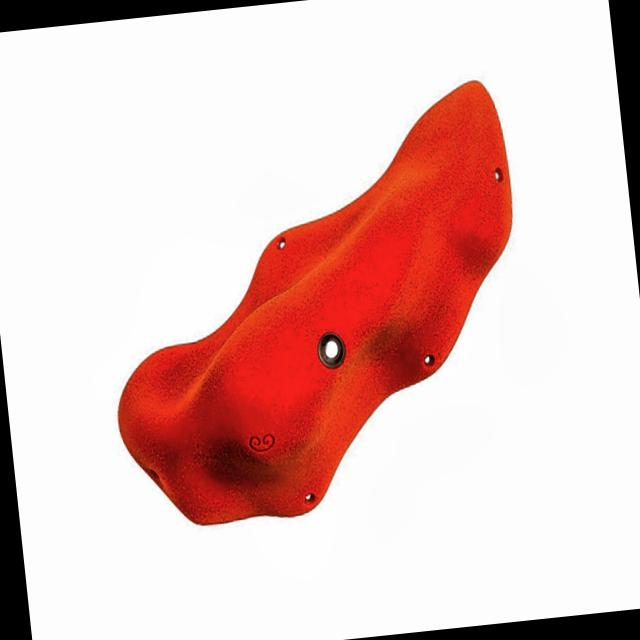Hold: (85, 58, 537, 544)
